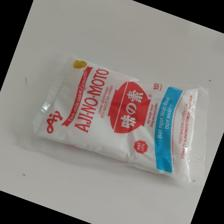Ajinomoto: (32, 57, 199, 189)
